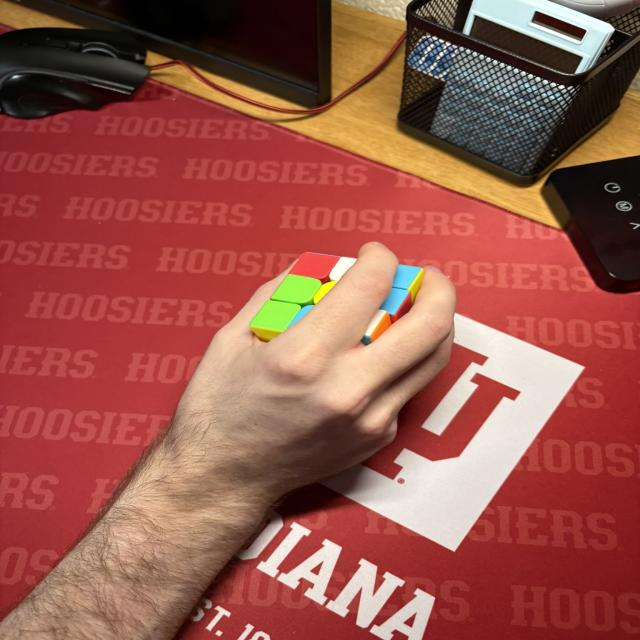Rubiks Cube: (250, 251, 357, 343), (362, 264, 423, 346)
